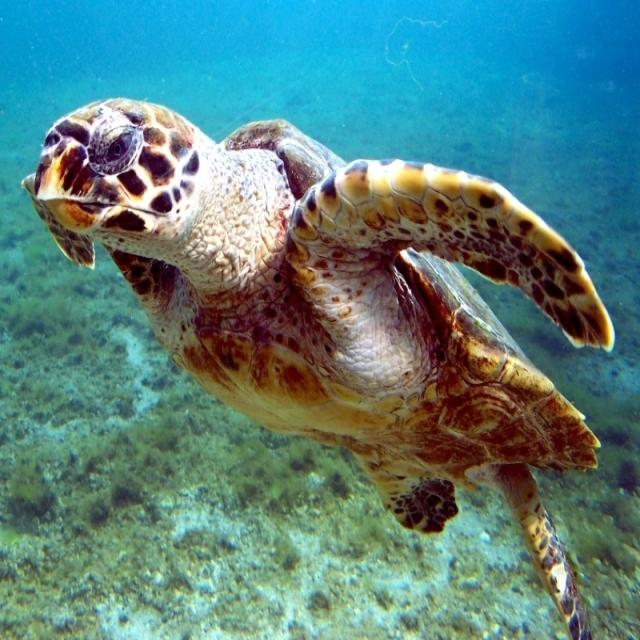sea turtle: (122, 105, 606, 548), (275, 122, 640, 345), (366, 374, 628, 640), (12, 84, 245, 303)
